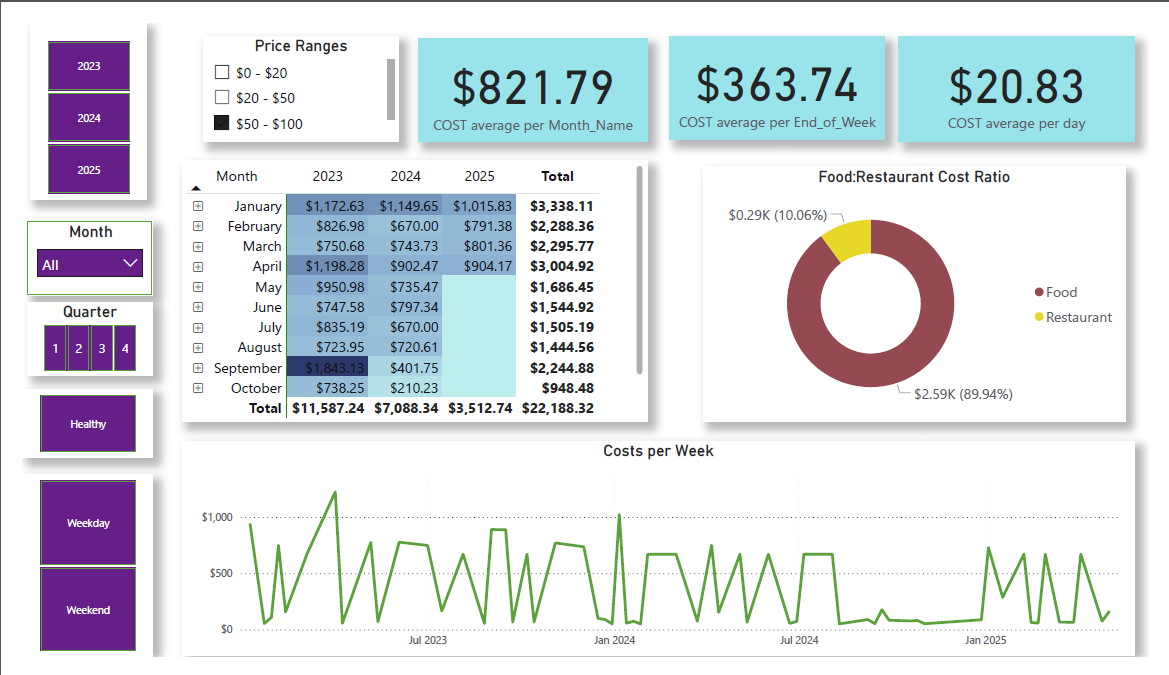

Layout of this report page (visuals, bound fields, positions):
{"tool":"powerbi","page":{"name":"Analysis by Monthly/Weekly/Daily","canvas":[1280,720],"ordinal":1},"visuals":[{"type":"slicer","title":"Month","fields":{"Values":["Calendar_Lookup.Month_Name"]},"box":[5.9,224.8,142.5,83.8],"z":3000},{"type":"slicer","title":"Quarter","fields":{"Values":["Calendar_Lookup.Quarter"]},"box":[5.9,317.4,142.5,82.3],"z":4000},{"type":"slicer","fields":{"Values":["Finance_Data.Sick(Boolean)"]},"box":[0,415.8,148.4,77.9],"z":5000},{"type":"slicer","title":"Price Ranges","fields":{"Values":["Finance_Data.Price_Ranges"]},"box":[205.7,14.7,221.9,120.5],"z":6000},{"type":"slicer","fields":{"Values":["Calendar_Lookup.Year"]},"box":[8.8,0,132.2,199.8],"z":7000},{"type":"slicer","fields":{"Values":["Calendar_Lookup.Weekday"]},"box":[0,512.8,148.4,207.2],"z":8000},{"type":"card","fields":{"Values":["Finance_Data.COST average per Month_Name"]},"box":[449.6,17.6,261.6,117.6],"z":9000},{"type":"card","fields":{"Values":["Finance_Data.COST average per End_of_Week"]},"box":[736.2,14.7,243.9,117.6],"z":10000},{"type":"card","fields":{"Values":["Finance_Data.COST average per day"]},"box":[996.2,14.7,267.4,120.5],"z":11000},{"type":"lineChart","title":"Costs per Week","fields":{"Y":["Sum(Finance_Data.COST)"],"Category":["Calendar_Lookup.End_of_Week"]},"box":[182.2,474.6,1081.5,243.9],"z":11001},{"type":"pivotTable","fields":{"Columns":["Calendar_Lookup.Year"],"Values":["Sum(Finance_Data.COST)"],"Rows":["Calendar_Lookup.Month_Name","Calendar_Lookup.Day_Name"]},"box":[182.2,155.8,529,296.8],"z":11002},{"type":"donutChart","title":"Food:Restaurant Cost Ratio","fields":{"Y":["Sum(Finance_Data.COST)"],"Category":["Finance_Data.Food(Boolean)"]},"box":[774.4,163.1,479,289.5],"z":11003}]}

Visuals, with their boxes in screenshot pixels (x1, y1, x2, y2), scaled from the page's 1280x720 canvas onto the 1169x675 screenshot:
"Month" slicer: [5,211,136,289]
"Quarter" slicer: [5,298,136,375]
slicer - Finance_Data.Sick(Boolean): [0,390,136,463]
"Price Ranges" slicer: [188,14,391,127]
slicer - Calendar_Lookup.Year: [8,0,129,187]
slicer - Calendar_Lookup.Weekday: [0,481,136,674]
card - Finance_Data.COST average per Month_Name: [411,16,650,127]
card - Finance_Data.COST average per End_of_Week: [672,14,895,124]
card - Finance_Data.COST average per day: [910,14,1154,127]
"Costs per Week" lineChart: [166,445,1154,674]
pivotTable - Calendar_Lookup.Year x Sum(Finance_Data.COST): [166,146,650,424]
"Food:Restaurant Cost Ratio" donutChart: [707,153,1145,424]
